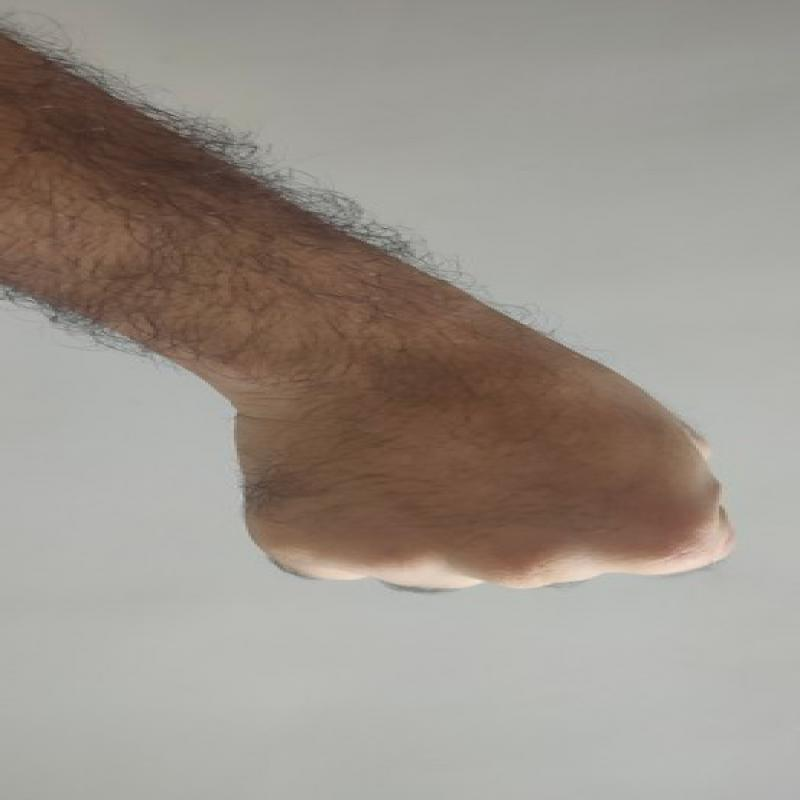Mushti: (177, 351, 752, 614)
